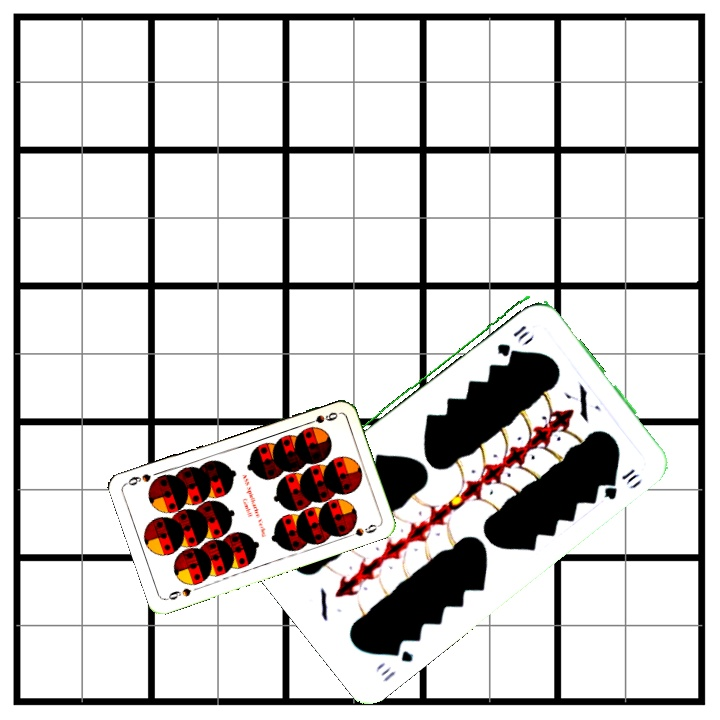G10: (377, 640, 416, 684), (493, 321, 532, 357)
S9: (301, 408, 340, 428), (162, 584, 194, 603)
